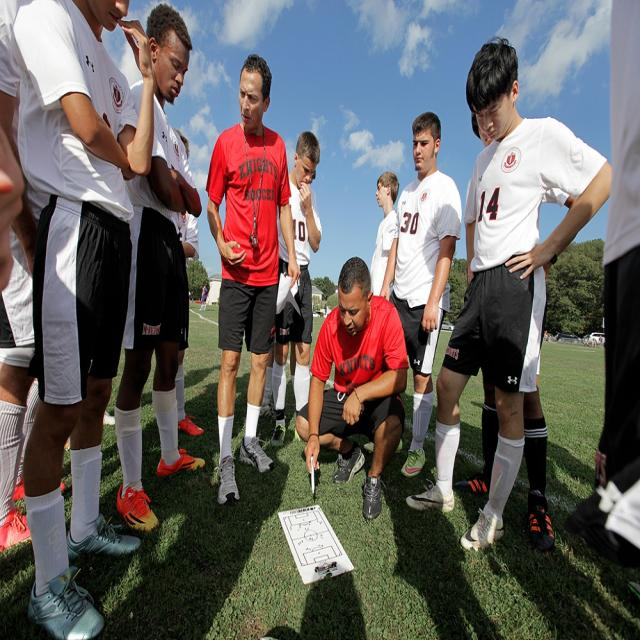body: (404, 31, 623, 556), (202, 353, 561, 639), (8, 0, 158, 639), (453, 106, 583, 552), (112, 1, 206, 537), (562, 0, 640, 640), (203, 52, 303, 508), (118, 133, 200, 640), (0, 0, 59, 638), (378, 108, 464, 481), (294, 252, 410, 523), (269, 129, 323, 449), (59, 399, 117, 640), (369, 169, 402, 297), (260, 325, 298, 353)
